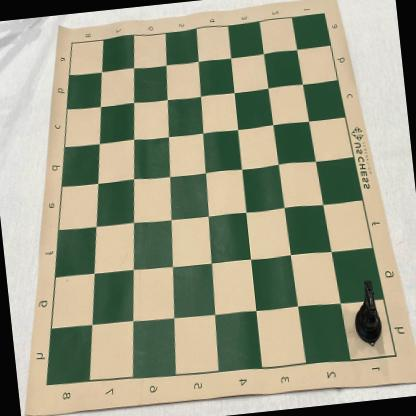black-knight: (350, 278, 383, 344)
